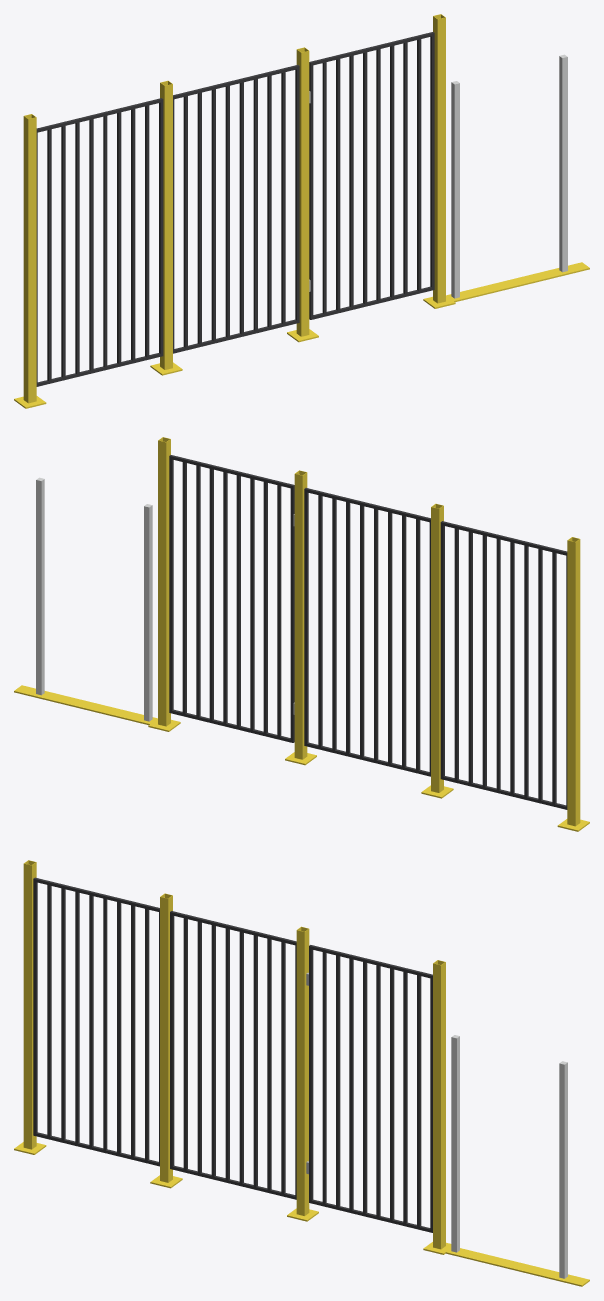
Rendered from fence.glb.
3 renders of one model, top to bottom at view 1: azimuth 30°, elevation 25°; view 2: azimuth 150°, elevation 25°; view 3: azimuth 330°, elevation 25°, orthographic.
Parts seen in each view (by area): view 1: door, panel_1, panel_2, post_1, post_4, post_3, post_2, light_curtain_tx, light_curtain_rx, curtain_sill; view 2: door, panel_1, panel_2, post_1, post_4, post_3, post_2, light_curtain_tx, light_curtain_rx, curtain_sill; view 3: door, panel_2, panel_1, post_4, post_3, post_1, post_2, light_curtain_tx, light_curtain_rx, curtain_sill.
Boxes of the visible parts, box(x1,y1,x2,y2) form: door: box(309, 32, 434, 319); panel_1: box(36, 98, 163, 386); panel_2: box(173, 65, 299, 353); post_1: box(23, 114, 36, 403); post_4: box(433, 14, 445, 303); post_3: box(296, 47, 309, 336); post_2: box(160, 80, 172, 369); light_curtain_tx: box(451, 81, 459, 298); light_curtain_rx: box(559, 54, 567, 272); curtain_sill: box(446, 262, 589, 302); door: box(169, 455, 294, 742); panel_1: box(440, 521, 567, 809); panel_2: box(304, 488, 430, 776); post_1: box(567, 537, 580, 826); post_4: box(158, 437, 170, 726); post_3: box(294, 470, 307, 759); post_2: box(431, 503, 443, 792); light_curtain_tx: box(144, 504, 152, 721); light_curtain_rx: box(36, 477, 44, 695); curtain_sill: box(14, 685, 157, 725); door: box(309, 945, 432, 1232); panel_2: box(170, 911, 296, 1199); panel_1: box(33, 877, 159, 1166); post_4: box(433, 960, 445, 1249); post_3: box(296, 926, 309, 1215); post_1: box(23, 860, 36, 1149); post_2: box(160, 893, 172, 1182); light_curtain_tx: box(451, 1035, 459, 1252); light_curtain_rx: box(559, 1061, 567, 1278); curtain_sill: box(445, 1248, 589, 1286).
Bounding box in the file's own units: 4.15 × 2 × 0.15.
